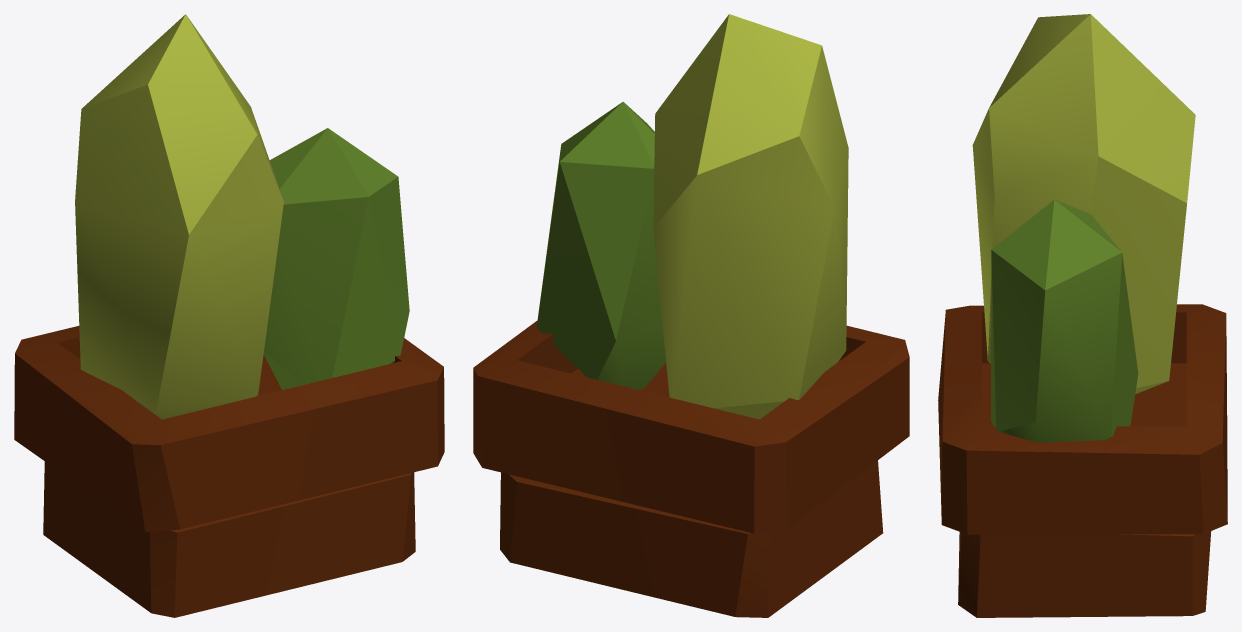
Rendered from Shrub 2 Fractured.fbx.
The picture shows the model from 3 angles, left to right: view 1: azimuth 30°, elevation 25°; view 2: azimuth 150°, elevation 25°; view 3: azimuth 270°, elevation 25°; orthographic projection. The views are drawn at different scales.
Parts seen in each view (by area): view 1: Shrub_02_Breaking, Shrub_02_Breaking.001; view 2: Shrub_02_Breaking, Shrub_02_Breaking.001; view 3: Shrub_02_Breaking.001, Shrub_02_Breaking.
Part boxes in pixels (x1,y1,x2,y2): Shrub_02_Breaking: [14, 14, 314, 617]; Shrub_02_Breaking.001: [256, 128, 444, 595]; Shrub_02_Breaking: [605, 14, 909, 617]; Shrub_02_Breaking.001: [473, 101, 669, 597]; Shrub_02_Breaking.001: [939, 199, 1227, 617]; Shrub_02_Breaking: [938, 14, 1227, 456].
Bounding box in the file's own units: 57.08 × 93.59 × 46.97.
